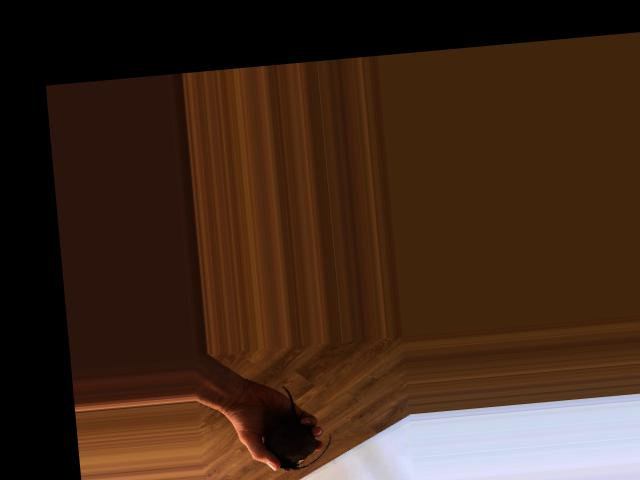beet: (260, 382, 334, 473)
